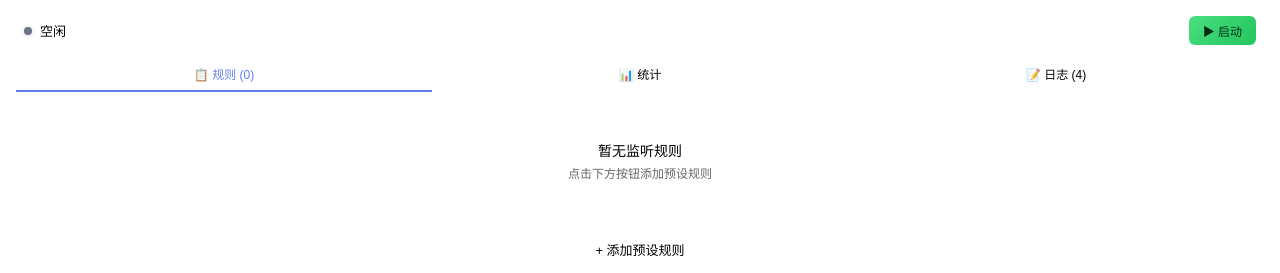
Scenario: WatchPanel › 日志显示 › 日志应该显示级别标签
The width and height of the screenshot is (1280, 273).
Click the button "📝 日志 (4)".
click(1056, 74)  # box top-left (848, 57), bottom-right (1264, 92)
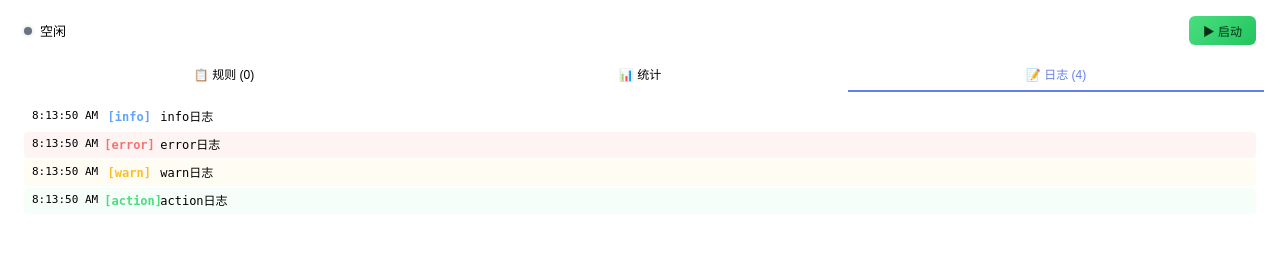
Now the text "[info]" is shown, box top-left (104, 108), bottom-right (154, 126)
Now the text "[error]" is shown, box top-left (104, 136), bottom-right (154, 154)
Now the text "[warn]" is shown, box top-left (104, 164), bottom-right (154, 182)
